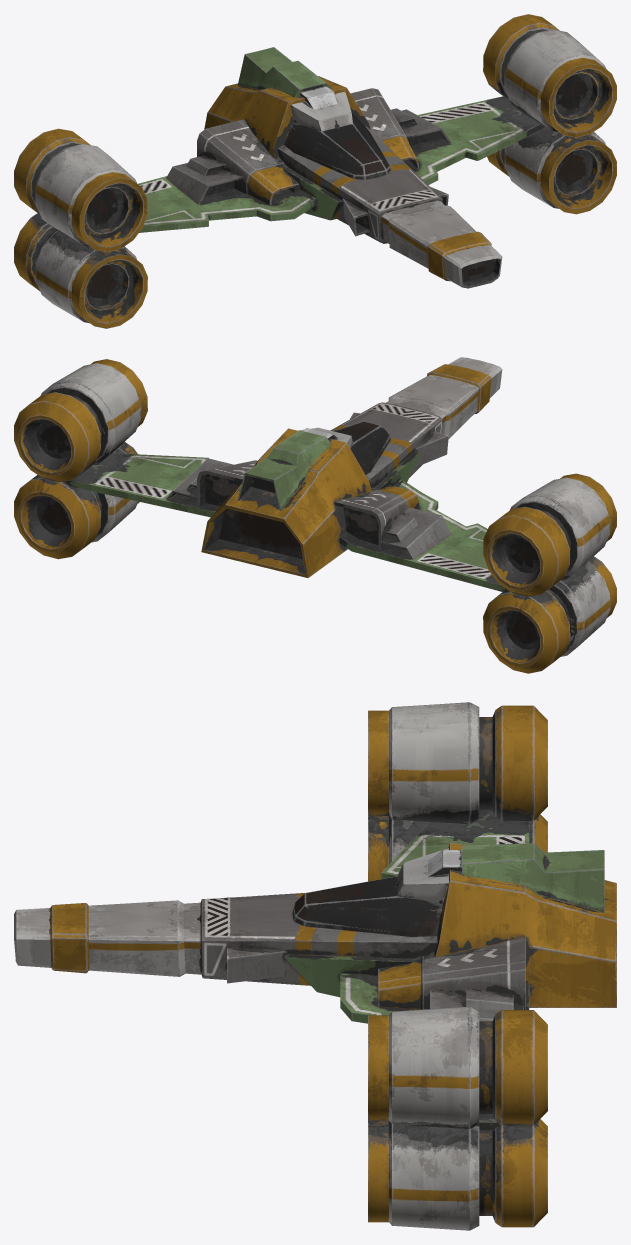
File: Spitfire.glb
3 renders of one model, top to bottom at view 1: azimuth 30°, elevation 25°; view 2: azimuth 150°, elevation 25°; view 3: azimuth 270°, elevation 25°, orthographic. The views are drawn at different scales.
Parts seen in each view (by area): view 1: Spitfire; view 2: Spitfire; view 3: Spitfire.
Boxes of the visible parts, left/top/right/bottom form: Spitfire: left=14, top=14, right=616, bottom=328; Spitfire: left=14, top=357, right=616, bottom=673; Spitfire: left=14, top=702, right=616, bottom=1230.
Size of the model in its own units: 10.52 by 3.06 by 7.53.
1 material, 1 textured.
